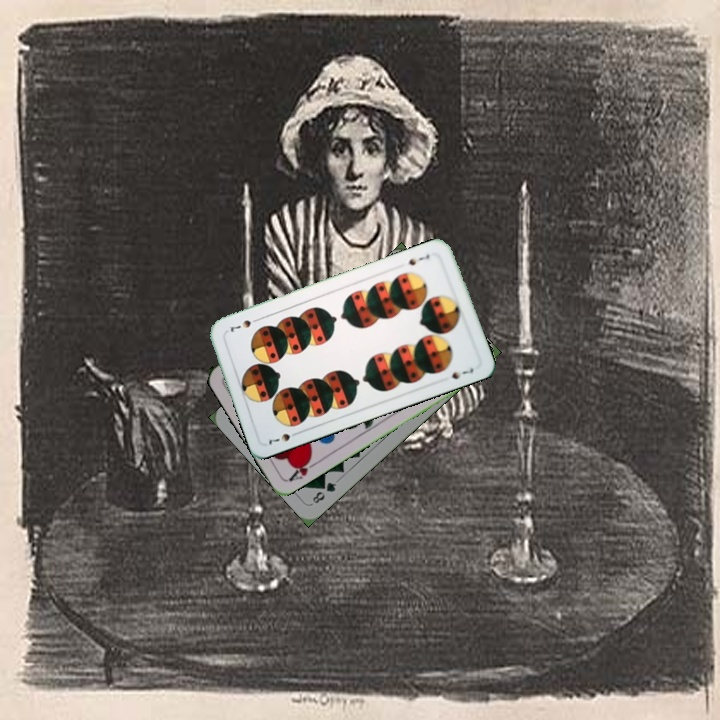G8: (308, 478, 339, 506)
HA: (284, 453, 321, 484)
S7: (265, 427, 303, 447), (404, 250, 432, 268)
